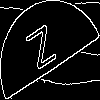Z: (25, 24, 62, 79)
